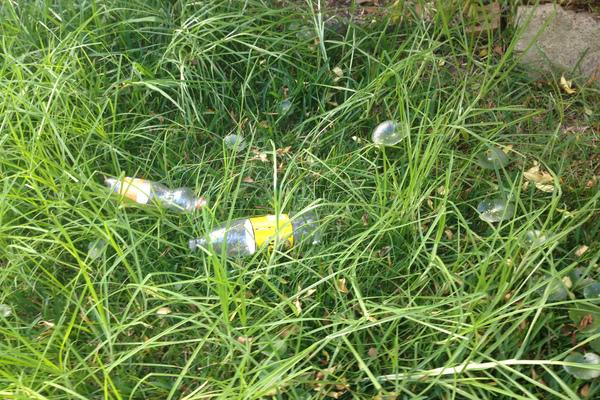Plastic Bottle: (189, 213, 321, 256), (104, 178, 207, 212)
